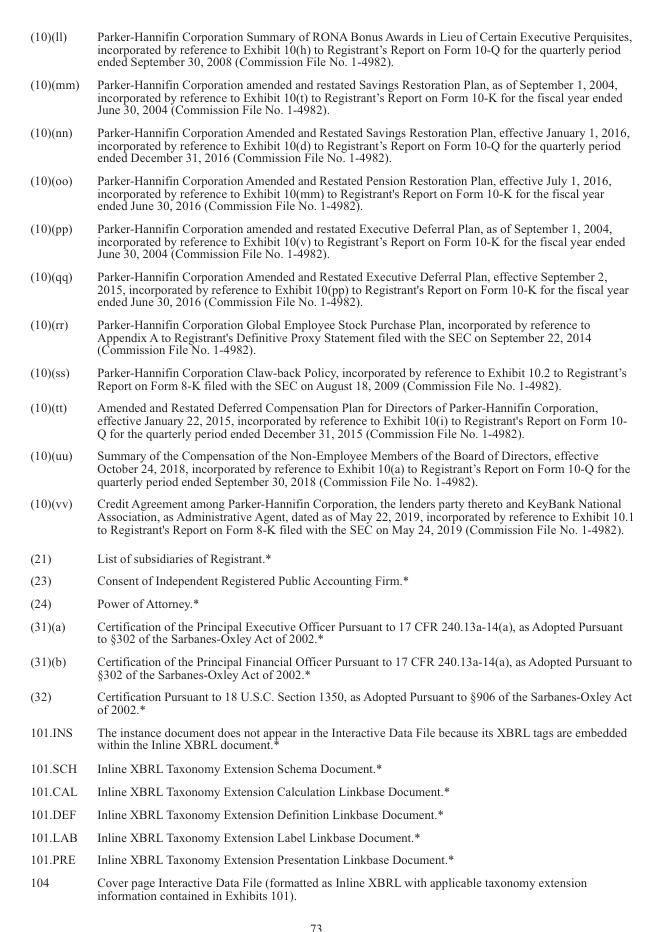table: (29, 28, 633, 901)
table column: (87, 28, 633, 901), (29, 28, 87, 901)
table row: (29, 491, 633, 542), (29, 72, 633, 120), (29, 120, 633, 168), (29, 168, 633, 216), (29, 216, 633, 264), (29, 264, 633, 312), (29, 312, 633, 360), (29, 395, 633, 443), (29, 443, 633, 491), (29, 28, 633, 72), (29, 684, 633, 720), (29, 720, 633, 756), (29, 360, 633, 395), (29, 614, 633, 649), (29, 649, 633, 684), (29, 870, 633, 901), (29, 542, 633, 568), (29, 568, 633, 591), (29, 591, 633, 614), (29, 756, 633, 779), (29, 779, 633, 802), (29, 824, 633, 847), (29, 847, 633, 870), (29, 802, 633, 824)
